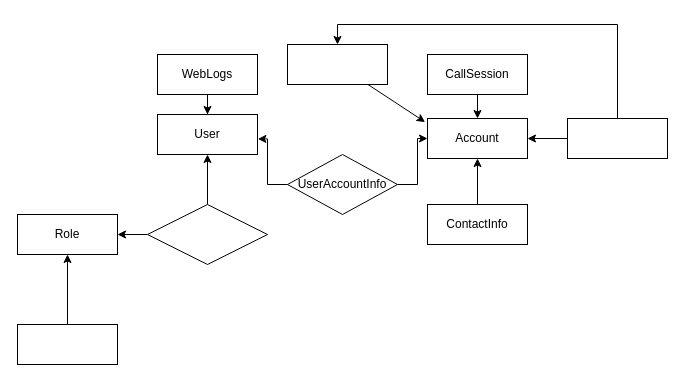
Image size: 685x382. Some labels were removed from this diagram. The shapes that lost their labels are listed below. From the top down, each one's centre as x and y in pixels, then its label:
At (337,64): "CDR".
At (617,138): "Clock".
At (207,234): "UserRoleInfo".
At (67,344): "PrivilegeInfo".
